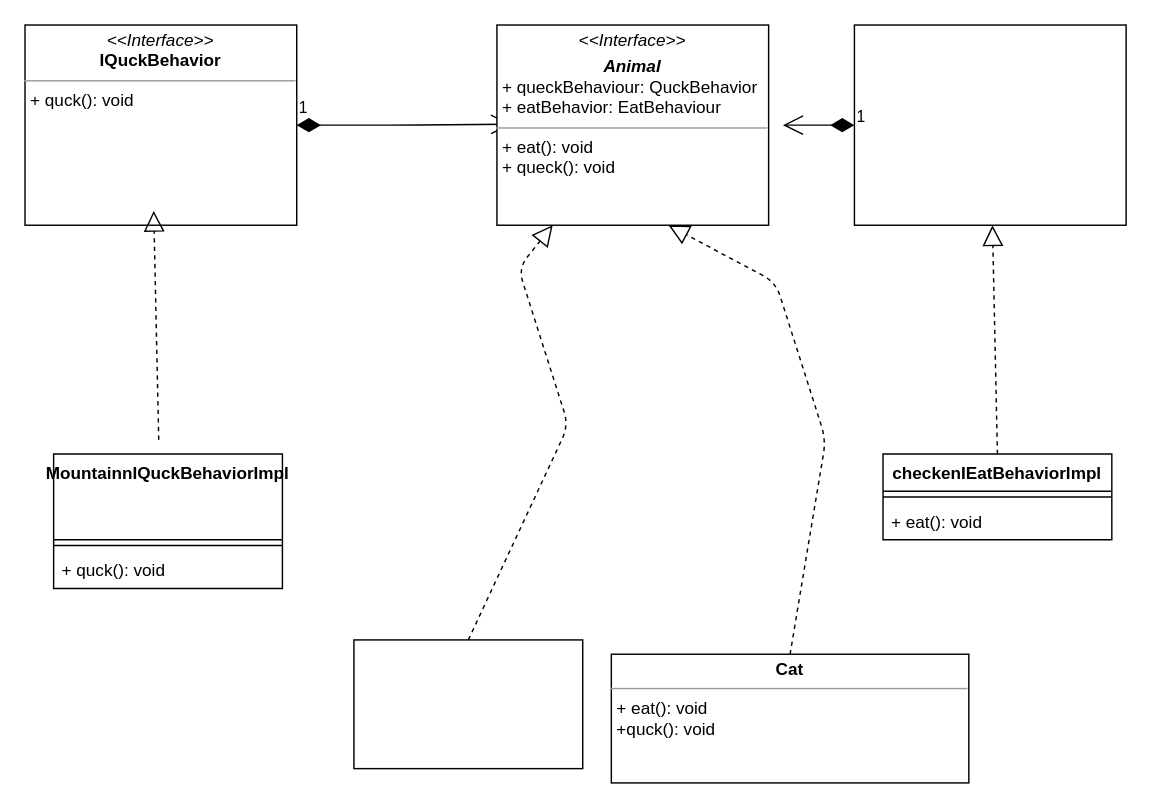
Image size: 1151x808. Some labels were removed from this diagram. Here are the shapes that lost their labels. From the top down, the centre of each, then its label:
(x=989, y=124): <<Interface>> IEatBehavior + eat(): void
(x=467, y=703): Dog + eat(): void +quck(): void
